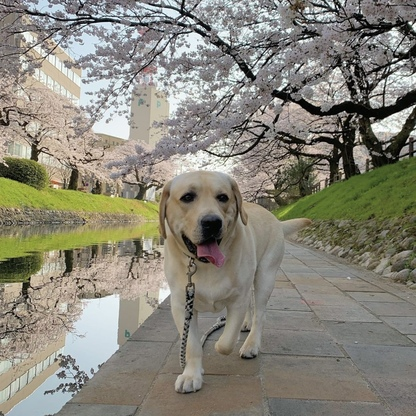labrado: (154, 168, 316, 399)
